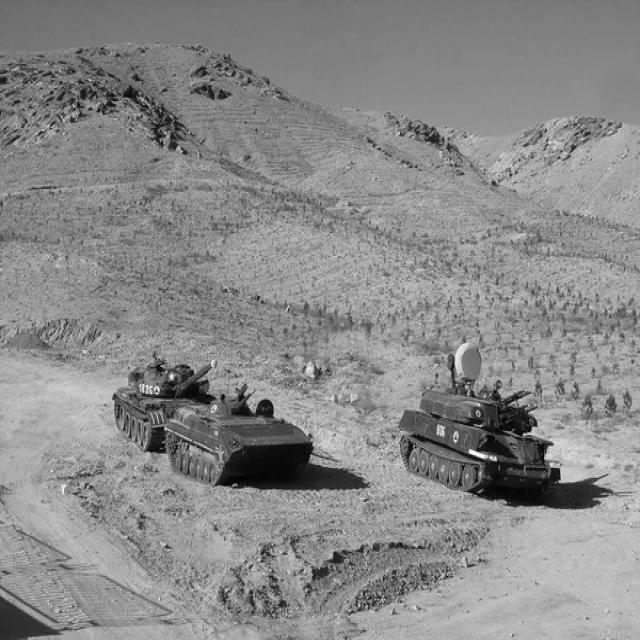Tank: (392, 347, 566, 506), (164, 384, 315, 500), (106, 344, 210, 453)
